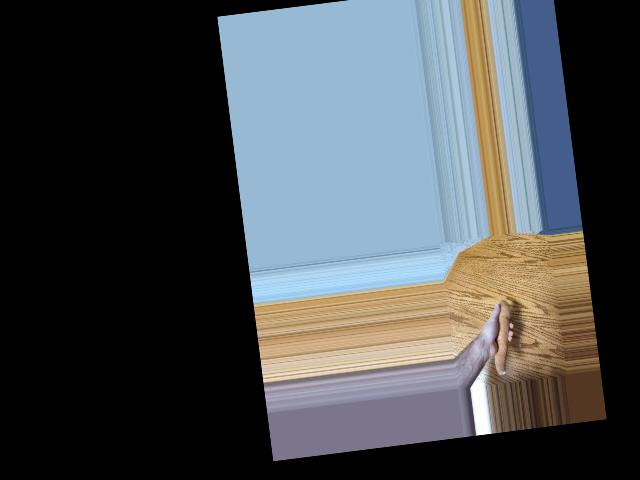sweet_potato: (484, 299, 519, 379)
